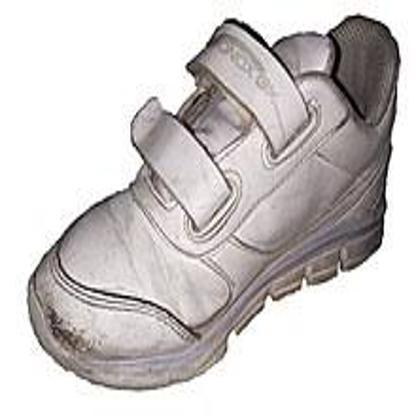not trash: (23, 15, 394, 388)
